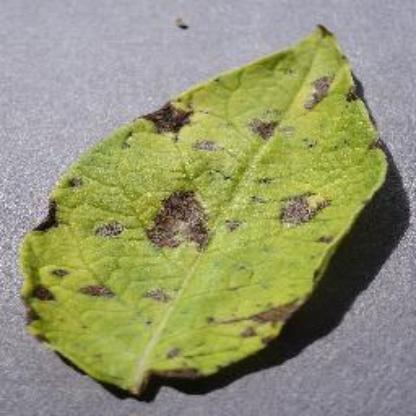Early-Blight: (19, 18, 394, 402)
